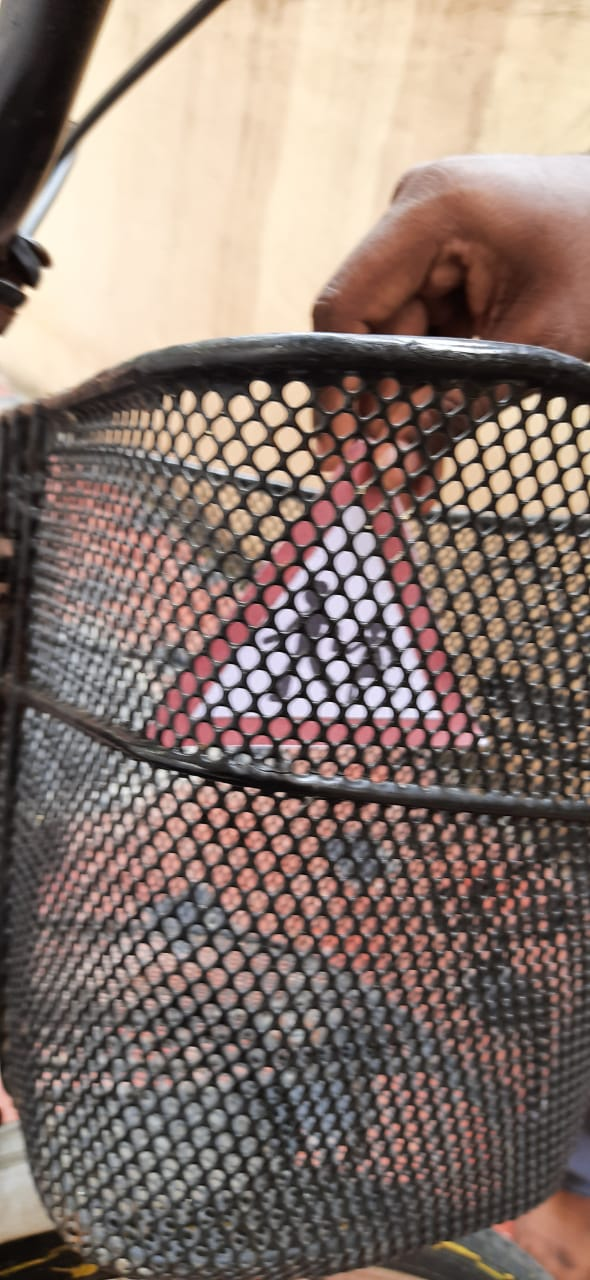SCHOOL ZONE: (126, 399, 495, 760)
